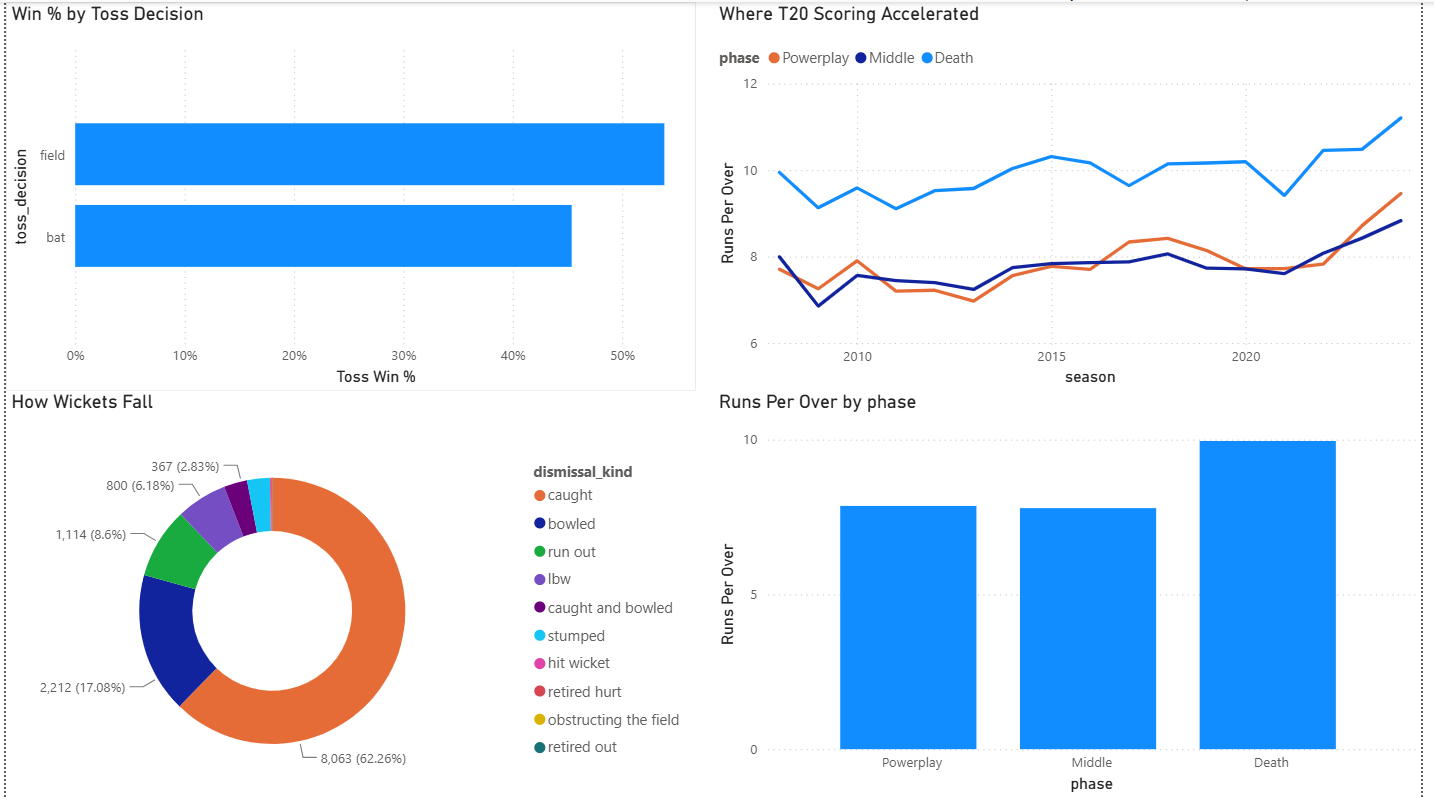

What the dashboard file says about the page in this screenshot:
{"tool":"powerbi","page":{"name":"Insights","canvas":[1280,720],"ordinal":2},"visuals":[{"type":"clusteredBarChart","title":"Win % by Toss Decision","fields":{"Category":["matches.toss_decision"],"Y":["matches.Toss Win %"]},"box":[0,0,624,352],"z":0},{"type":"lineChart","title":"Where T20 Scoring Accelerated","fields":{"Category":["matches.season"],"Series":["deliveries.phase"],"Y":["matches.Runs Per Over"]},"box":[640,0,640,352],"z":1},{"type":"clusteredColumnChart","fields":{"Category":["deliveries.phase"],"Y":["matches.Runs Per Over"]},"box":[640,352,640,368],"z":2},{"type":"donutChart","title":"How Wickets Fall","fields":{"Category":["deliveries.dismissal_kind"],"Y":["CountNonNull(deliveries.dismissal_kind)"]},"box":[0,352,624,368],"z":3}]}

Visuals, with their boxes in screenshot pixels (x1, y1, x2, y2), scaled from the page's 1280x720 canvas onto the 1434x797 screenshot:
"Win % by Toss Decision" clusteredBarChart: 0, 0, 699, 390
"Where T20 Scoring Accelerated" lineChart: 717, 0, 1433, 390
clusteredColumnChart - deliveries.phase x matches.Runs Per Over: 717, 390, 1433, 796
"How Wickets Fall" donutChart: 0, 390, 699, 796
